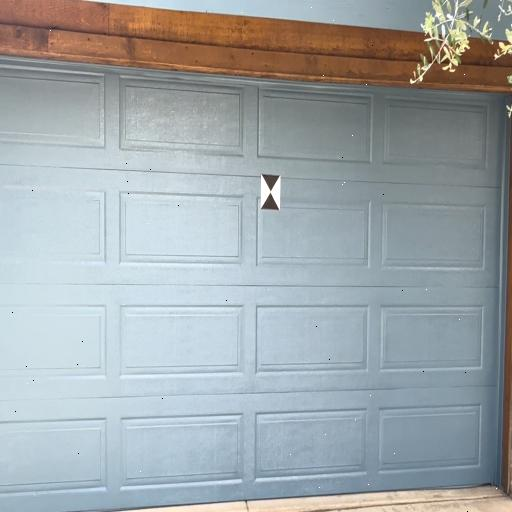target: (261, 174, 281, 210)
